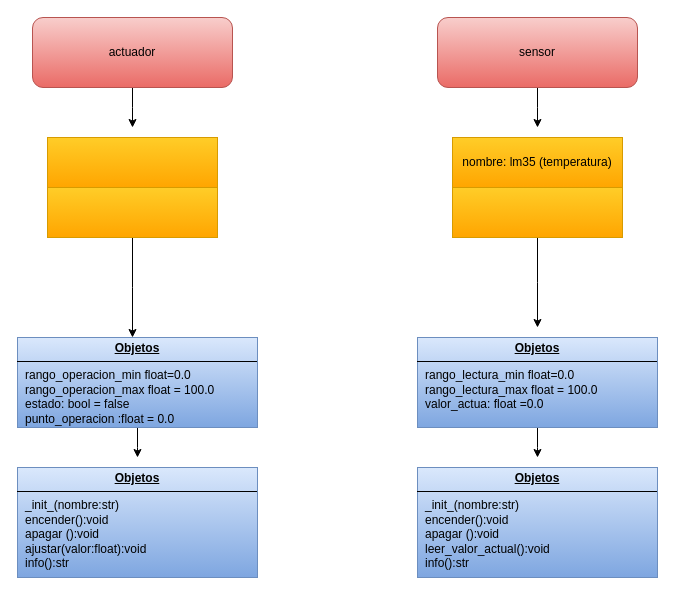
This 675x595 diagram has some shape labels left out. The shapes that lost their labels are listed below. From the top down, each one's centre as x and y in pixels, then its label:
At [132,162]: "nombre:motor(ventilador)".
At [132,212]: "nombre:led".
At [537,212]: "nombre:lLDR".
